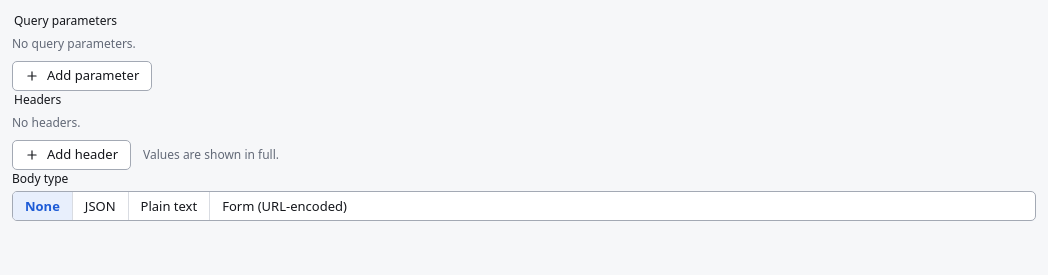
Test: RequestRowsGroup › adds a row to either list with focus on its Name, and clears that list’s own error
The width and height of the screenshot is (1048, 275).
Later steps or results of the test are not shown.
Click the button "Add parameter": click(82, 76) [12,61,152,91]
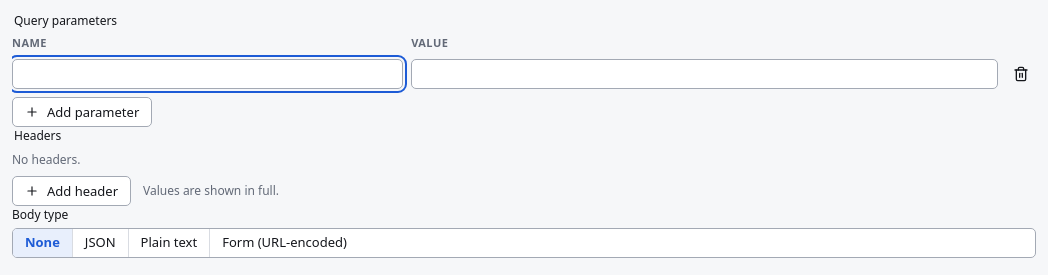
Result: the field named "Query parameter 1 value" is shown at [411,59,998,89]
